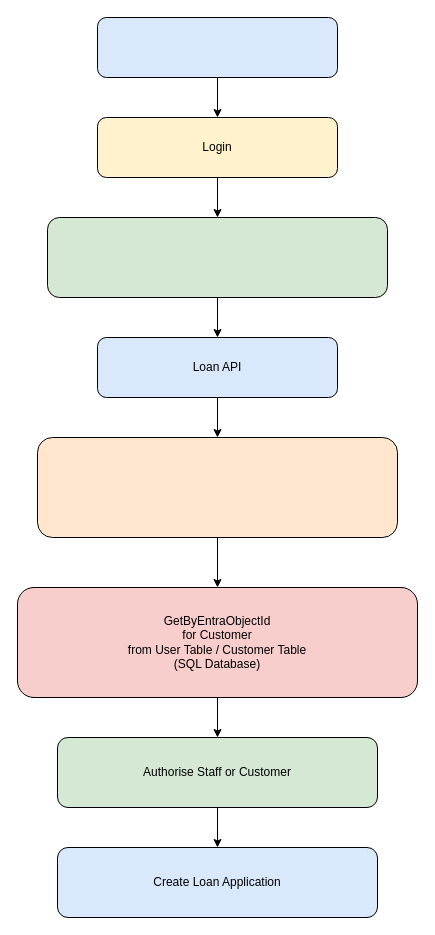
This 435x935 diagram has some shape labels left out. Here are the shapes that lost their labels. From the top down, the centre of each, then its label:
the point at 217,47: Customer/ Staff
the point at 217,257: Generate JWT Token using Application Registration Client
the point at 217,487: Validate Token Extract oid of Client App Registration
